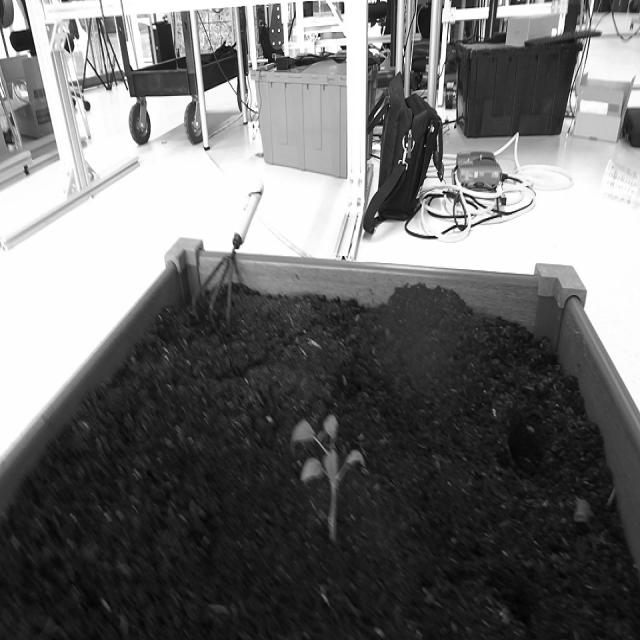Healthy: (289, 413, 369, 545)
